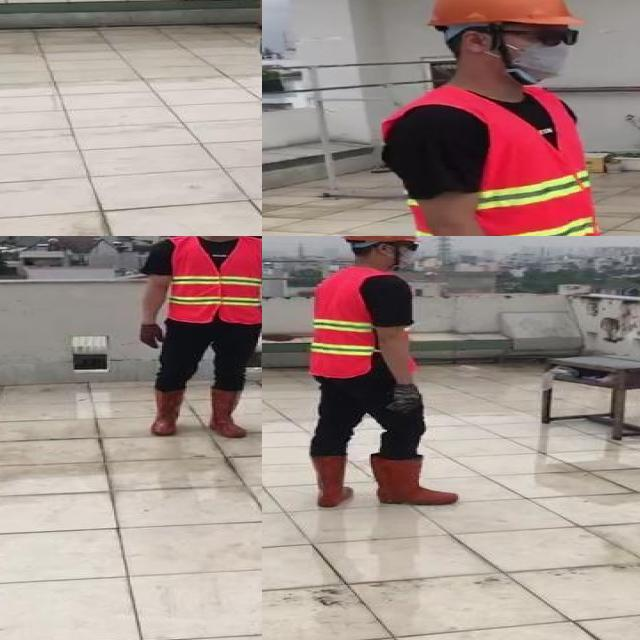No_Ear-Protection: (458, 27, 494, 59)
boots: (369, 455, 464, 506), (205, 387, 252, 437), (309, 452, 351, 507), (146, 387, 185, 436)
face_mask: (378, 240, 423, 268)
hand_glove: (387, 384, 421, 413), (137, 323, 167, 347)
head_helmet: (424, 0, 577, 26), (341, 236, 421, 245)
person: (347, 0, 640, 236), (294, 236, 465, 509), (122, 236, 262, 443)
vest: (378, 84, 607, 236), (171, 236, 262, 325), (312, 266, 382, 378)
